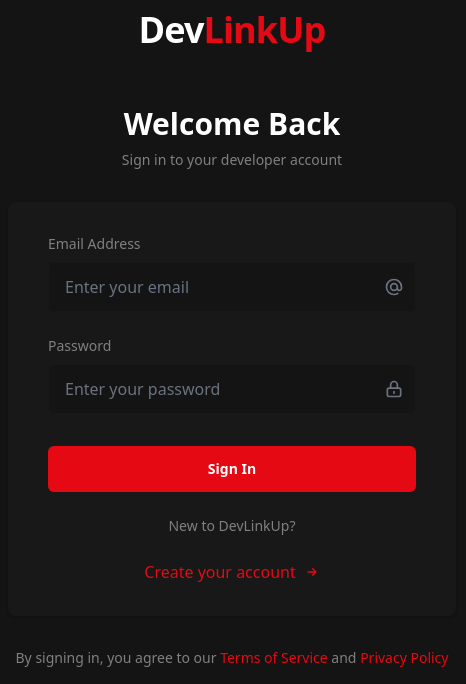
it: Login page › disables submit button while loading
The width and height of the screenshot is (466, 684).
Type "alice@example.com" into the field with placeholder "Enter your email". click: (232, 287)
box: [48,262,416,312]
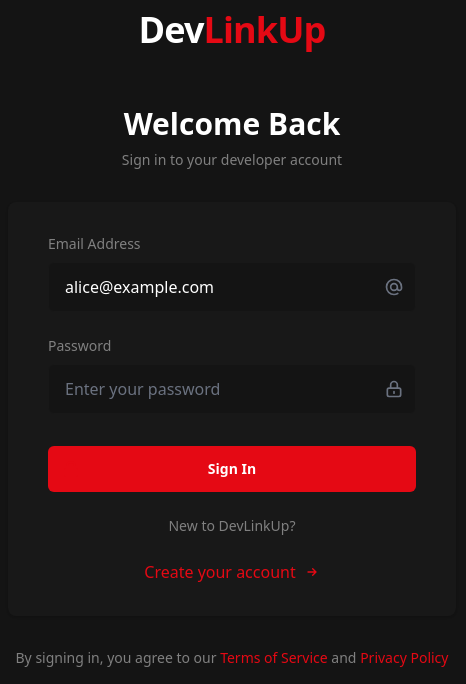
Type "secret123" into the password field with placeholder "Enter your password". click: (232, 389)
box: [48,364,416,414]
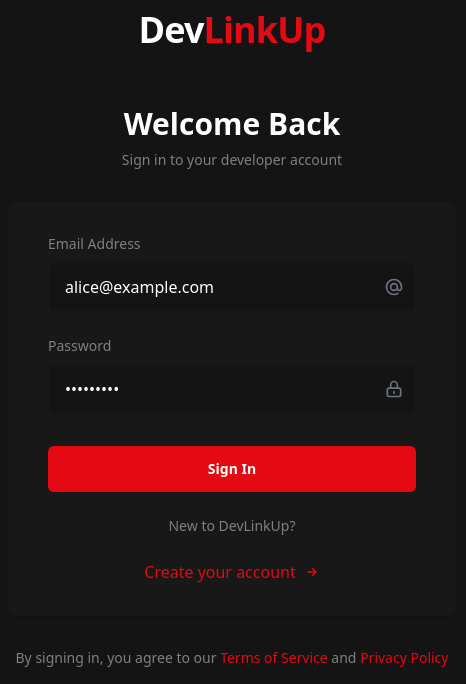
Submit the form "Sign In", box [48,234,416,584]
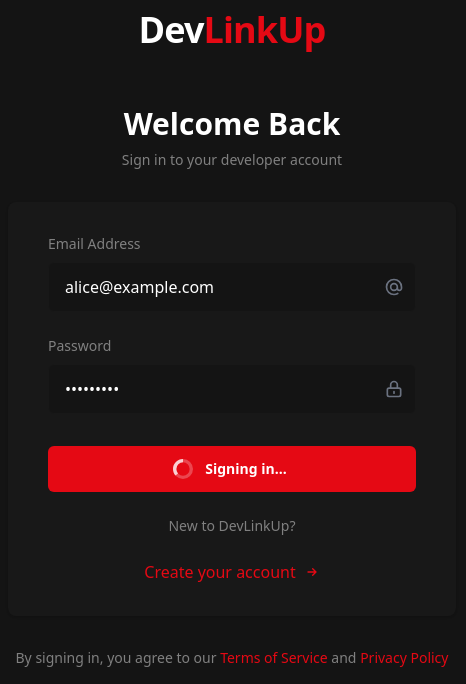
Expected: the button "Signing in..." is disabled, [48,446,416,492]
